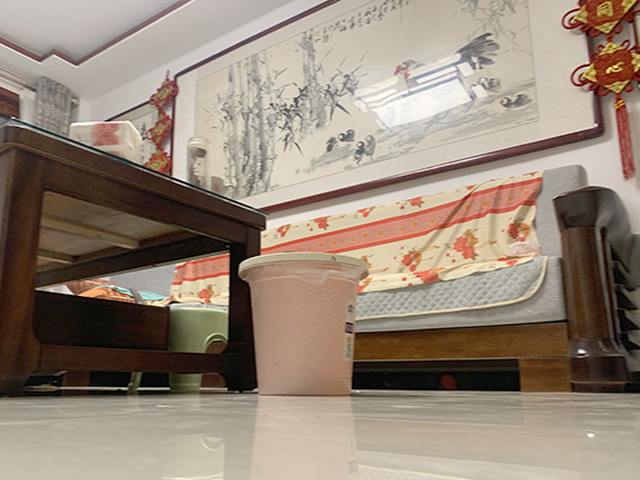sofa: (356, 162, 637, 395)
stool: (169, 305, 230, 392)
table: (2, 116, 270, 398)
trashcan: (239, 251, 369, 398)
